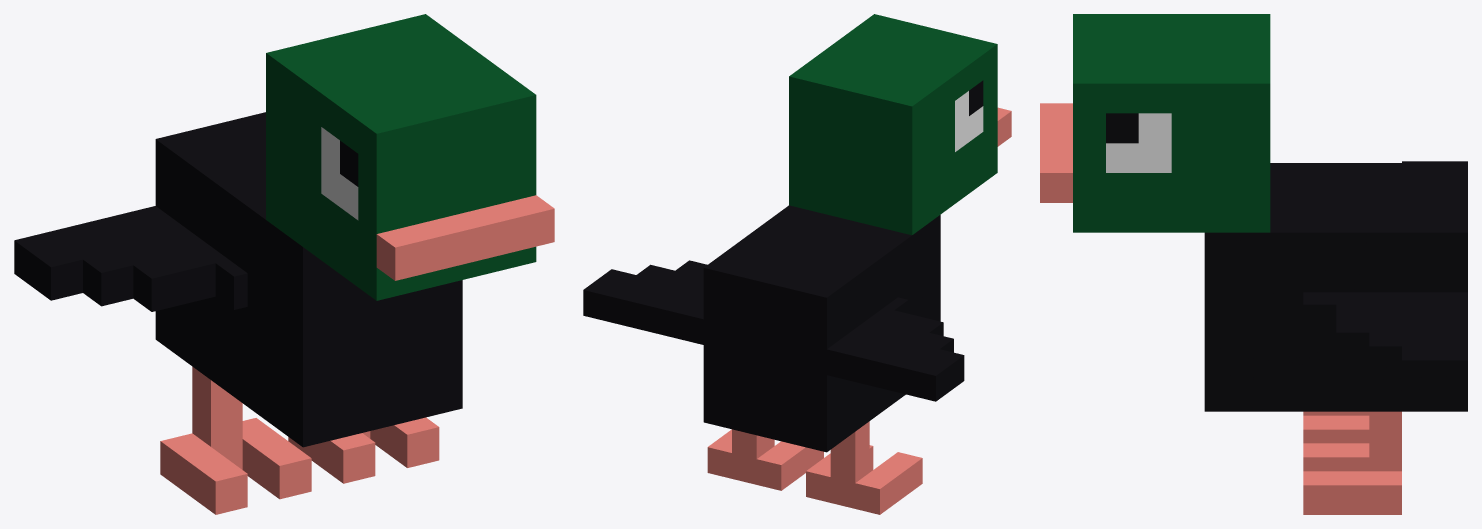
Rendered from Green_Duck.fbx.
3 renders of one model, left to right at view 1: azimuth 30°, elevation 25°; view 2: azimuth 150°, elevation 25°; view 3: azimuth 270°, elevation 25°, orthographic. The views are drawn at different scales.
Parts seen in each view (by area): view 1: Green_Duck.vox, Green_Duck.vox.002; view 2: Green_Duck.vox, Green_Duck.vox.002, Green_Duck.vox.001; view 3: Green_Duck.vox, Green_Duck.vox.001.
Part boxes in pixels (left/top/right/bottom): Green_Duck.vox: left=155, top=14, right=554, bottom=514; Green_Duck.vox.002: left=14, top=206, right=247, bottom=311; Green_Duck.vox: left=703, top=14, right=1011, bottom=514; Green_Duck.vox.002: left=813, top=297, right=964, bottom=401; Green_Duck.vox.001: left=583, top=260, right=707, bottom=344; Green_Duck.vox: left=1040, top=14, right=1467, bottom=514; Green_Duck.vox.001: left=1303, top=292, right=1467, bottom=389.
Bounding box in the file's own units: 143 × 140 × 130.
